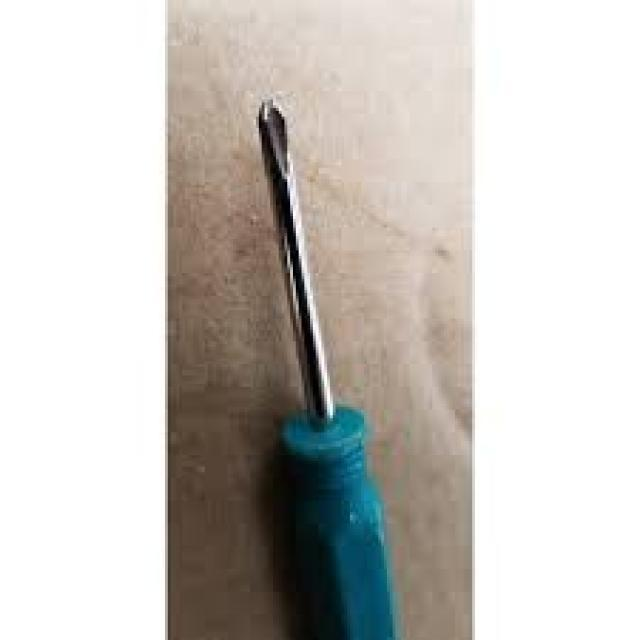screwdriver: (245, 91, 406, 640)
